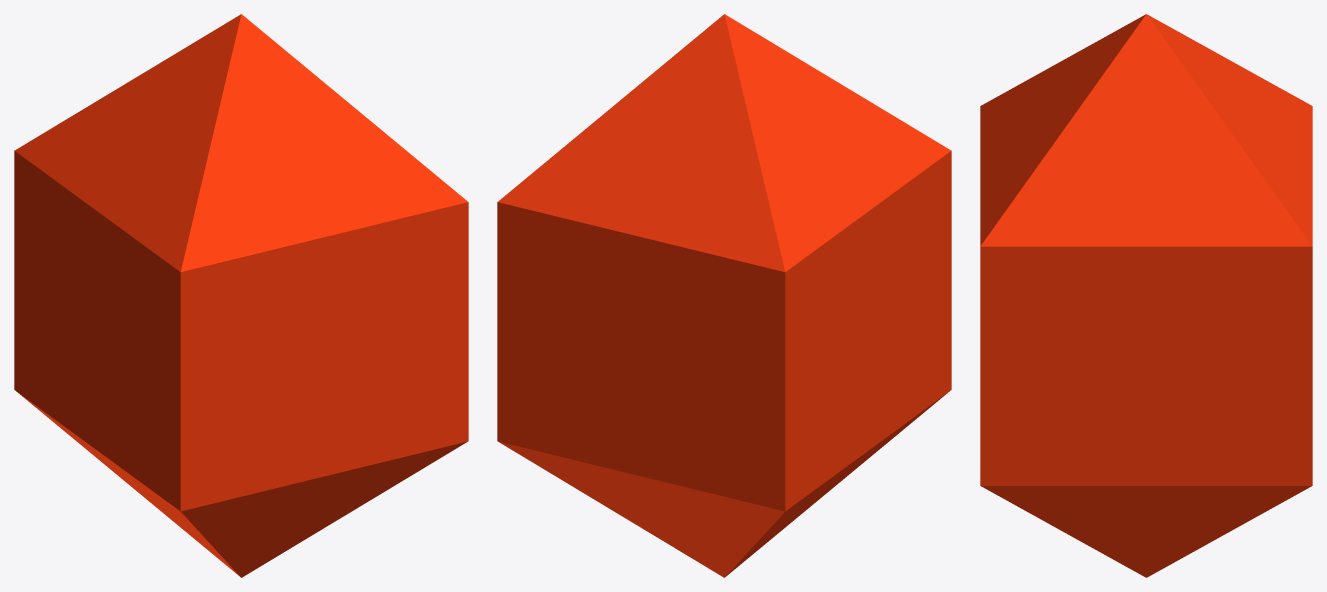
The model's file is Jem_26.fbx.
The picture shows the model from 3 angles, left to right: view 1: azimuth 30°, elevation 25°; view 2: azimuth 150°, elevation 25°; view 3: azimuth 270°, elevation 25°; orthographic projection.
Visible parts, largest first — view 1: Jem_26; view 2: Jem_26; view 3: Jem_26.
Boxes of the visible parts, left/top/right/bottom form: Jem_26: left=14, top=14, right=468, bottom=577; Jem_26: left=497, top=14, right=951, bottom=577; Jem_26: left=980, top=14, right=1312, bottom=577.
Bounding box in the file's own units: 36 × 67.4 × 36.
